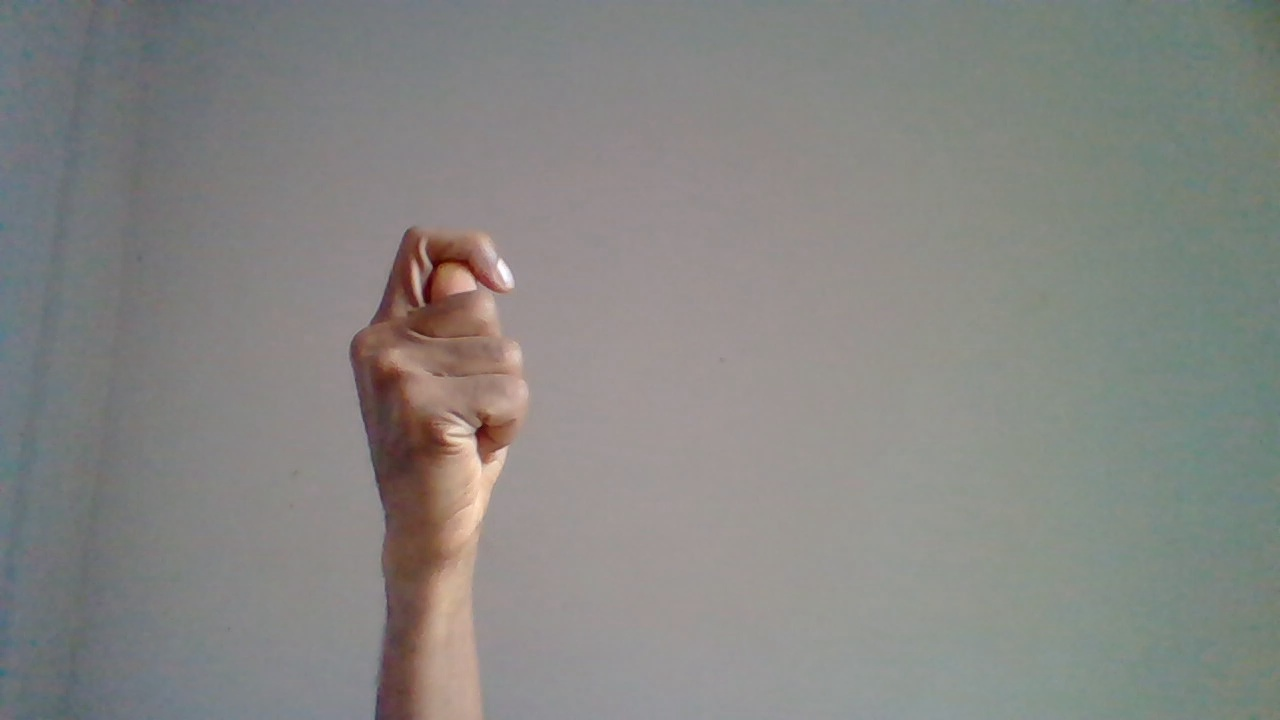che: (353, 216, 538, 658)
